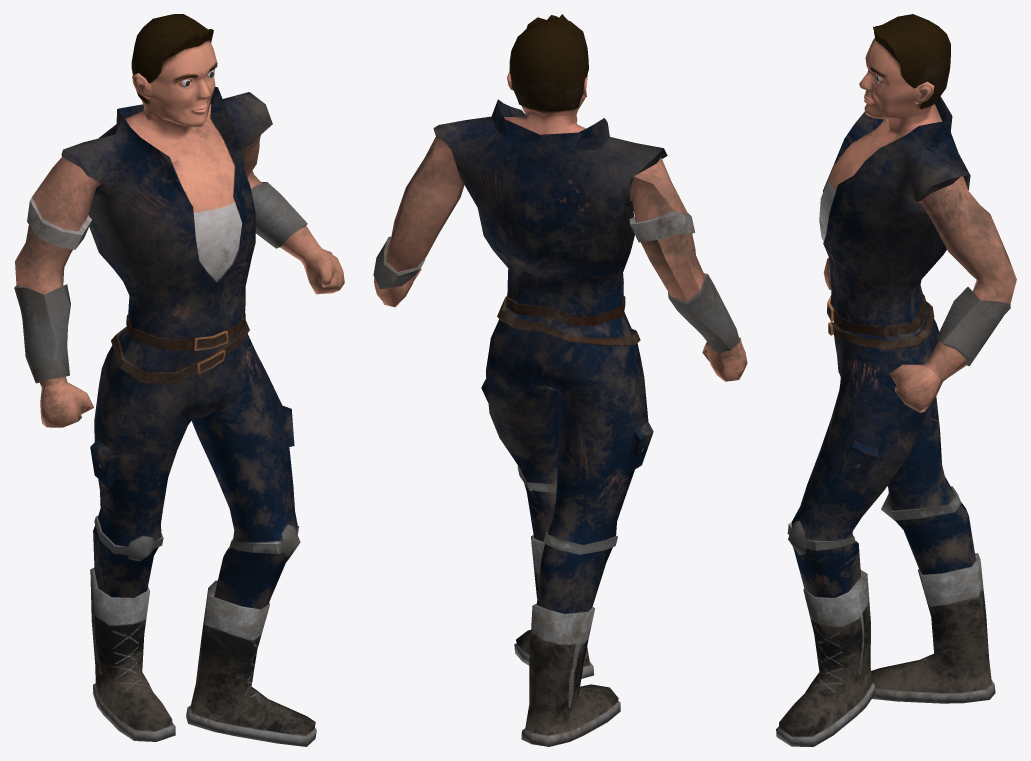
The model's file is Anim_ataque_f2_jugador.0012.obj.
The picture shows the model from 3 angles, left to right: view 1: azimuth 30°, elevation 25°; view 2: azimuth 150°, elevation 25°; view 3: azimuth 270°, elevation 25°; orthographic projection.
Parts seen in each view (by area): view 1: polySurface1; view 2: polySurface1; view 3: polySurface1.
Part boxes in pixels (box(x1,y1,x2,y2)): polySurface1: box(14, 14, 344, 746); polySurface1: box(373, 14, 747, 746); polySurface1: box(776, 14, 1016, 746).
Bounding box in the file's own units: 4.82 × 9.53 × 3.02.
